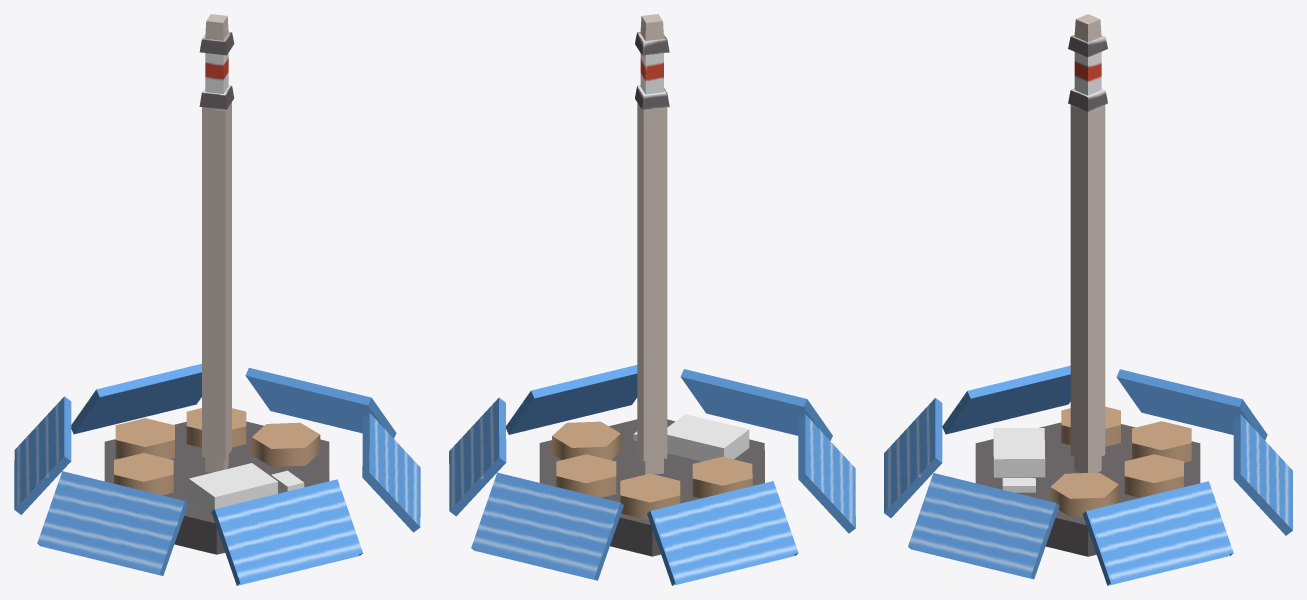
File: solarPowerStation_fbx.FBX
3 renders of one model, left to right at view 1: azimuth 30°, elevation 25°; view 2: azimuth 150°, elevation 25°; view 3: azimuth 270°, elevation 25°, orthographic.
Visible parts, largest first — view 1: SolarPowerStation; view 2: SolarPowerStation; view 3: SolarPowerStation.
Part boxes in pixels (<box>): SolarPowerStation: <box>14,14,420,585</box>; SolarPowerStation: <box>449,14,855,585</box>; SolarPowerStation: <box>884,14,1292,585</box>.
Bounding box in the file's own units: 1180 × 1420 × 1090.
Materials: 1 (1 with a texture image).
